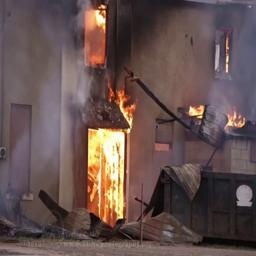fire: (89, 126, 127, 220), (79, 0, 111, 62)
